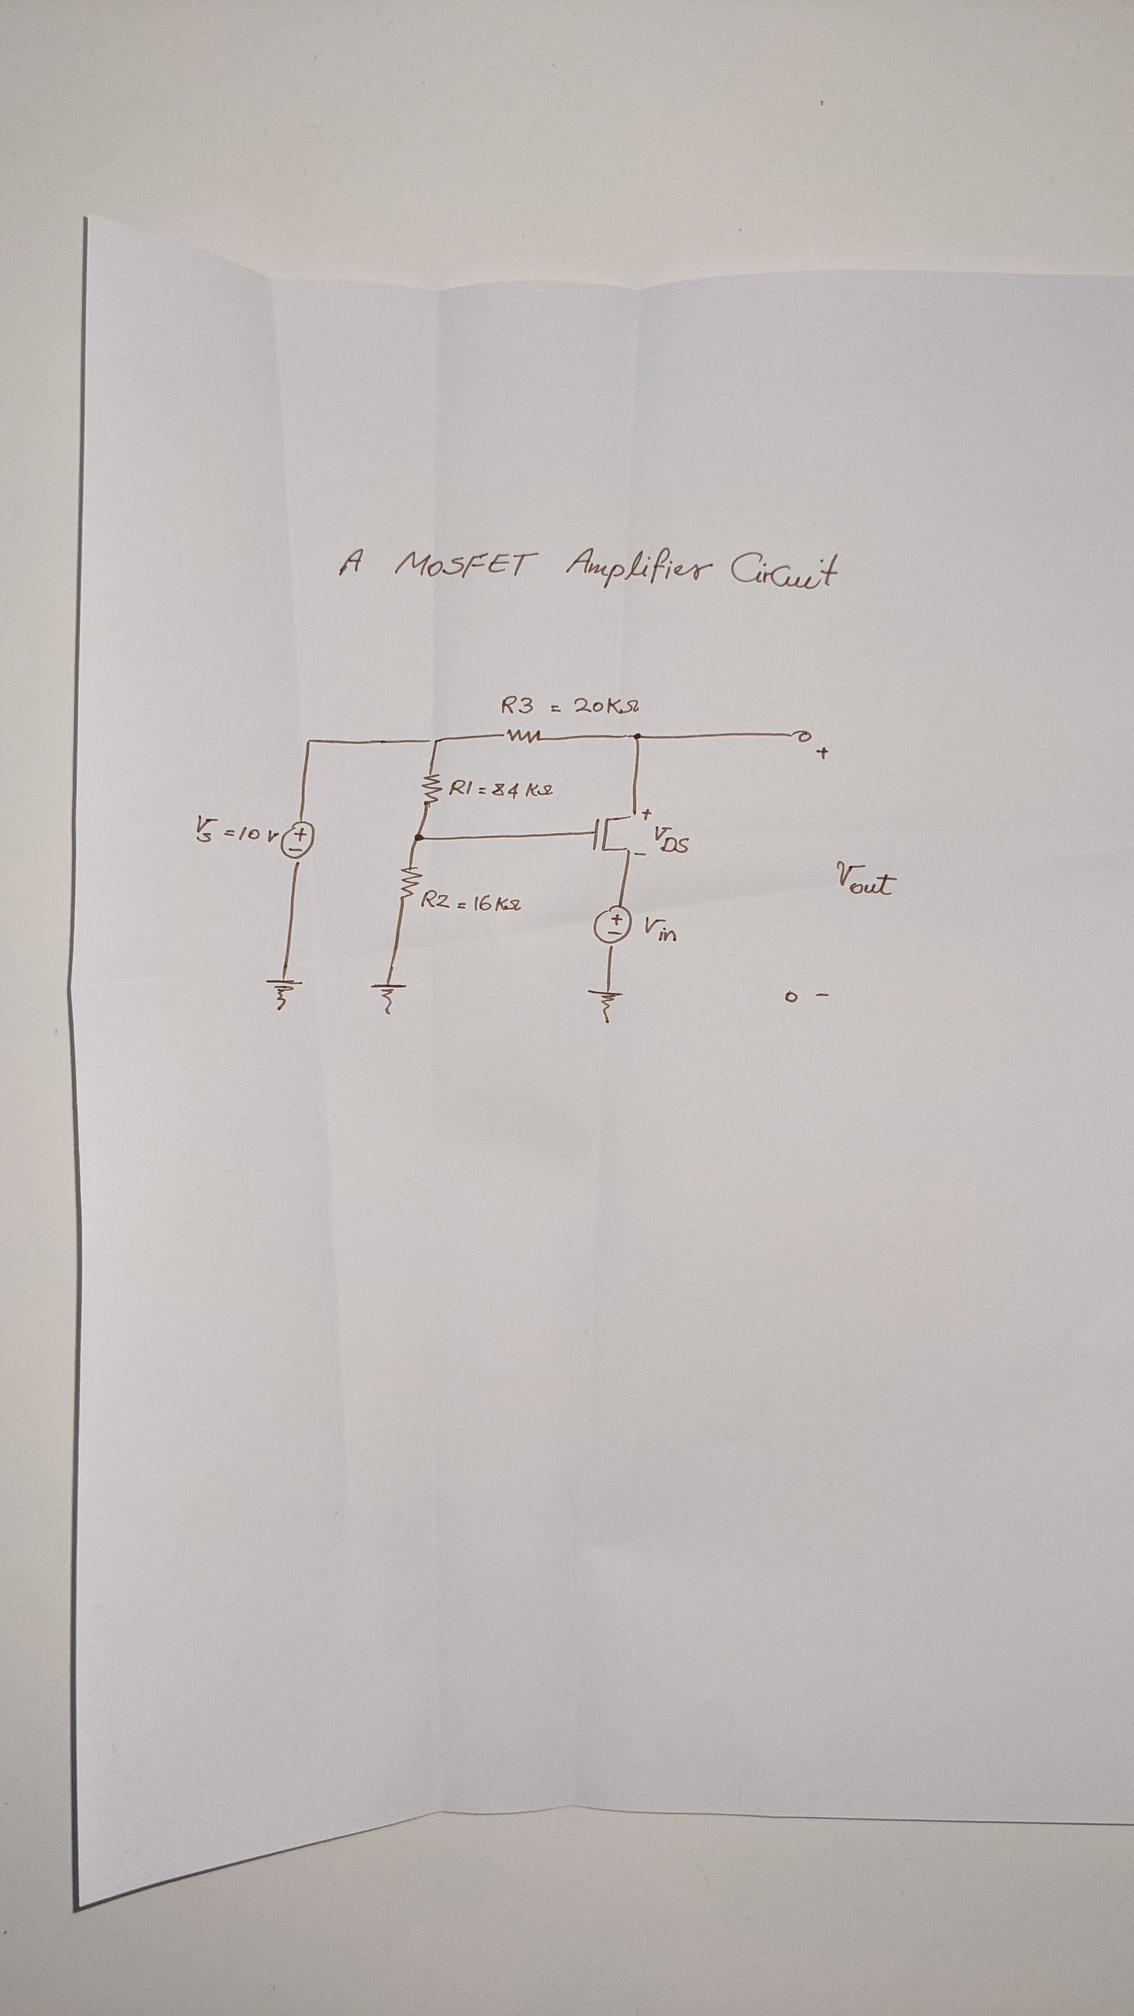gnd: (584, 986, 626, 1027), (263, 973, 306, 1014), (368, 980, 408, 1016)
junction: (413, 831, 426, 845), (631, 731, 645, 744), (426, 735, 442, 746), (303, 737, 314, 746)
resistor: (397, 865, 424, 901), (420, 771, 444, 809), (501, 727, 546, 745)
terminal: (788, 728, 814, 744), (782, 989, 800, 1004)
text: (336, 543, 842, 593), (498, 692, 642, 717), (192, 811, 280, 846), (447, 775, 555, 800), (420, 888, 523, 912), (835, 858, 899, 897), (654, 822, 692, 856), (644, 914, 680, 944), (814, 744, 834, 762), (813, 989, 834, 1000), (640, 809, 654, 821), (631, 850, 648, 860)
transistor: (588, 810, 638, 854)
voltage.dc: (591, 901, 634, 948), (280, 818, 317, 865)
